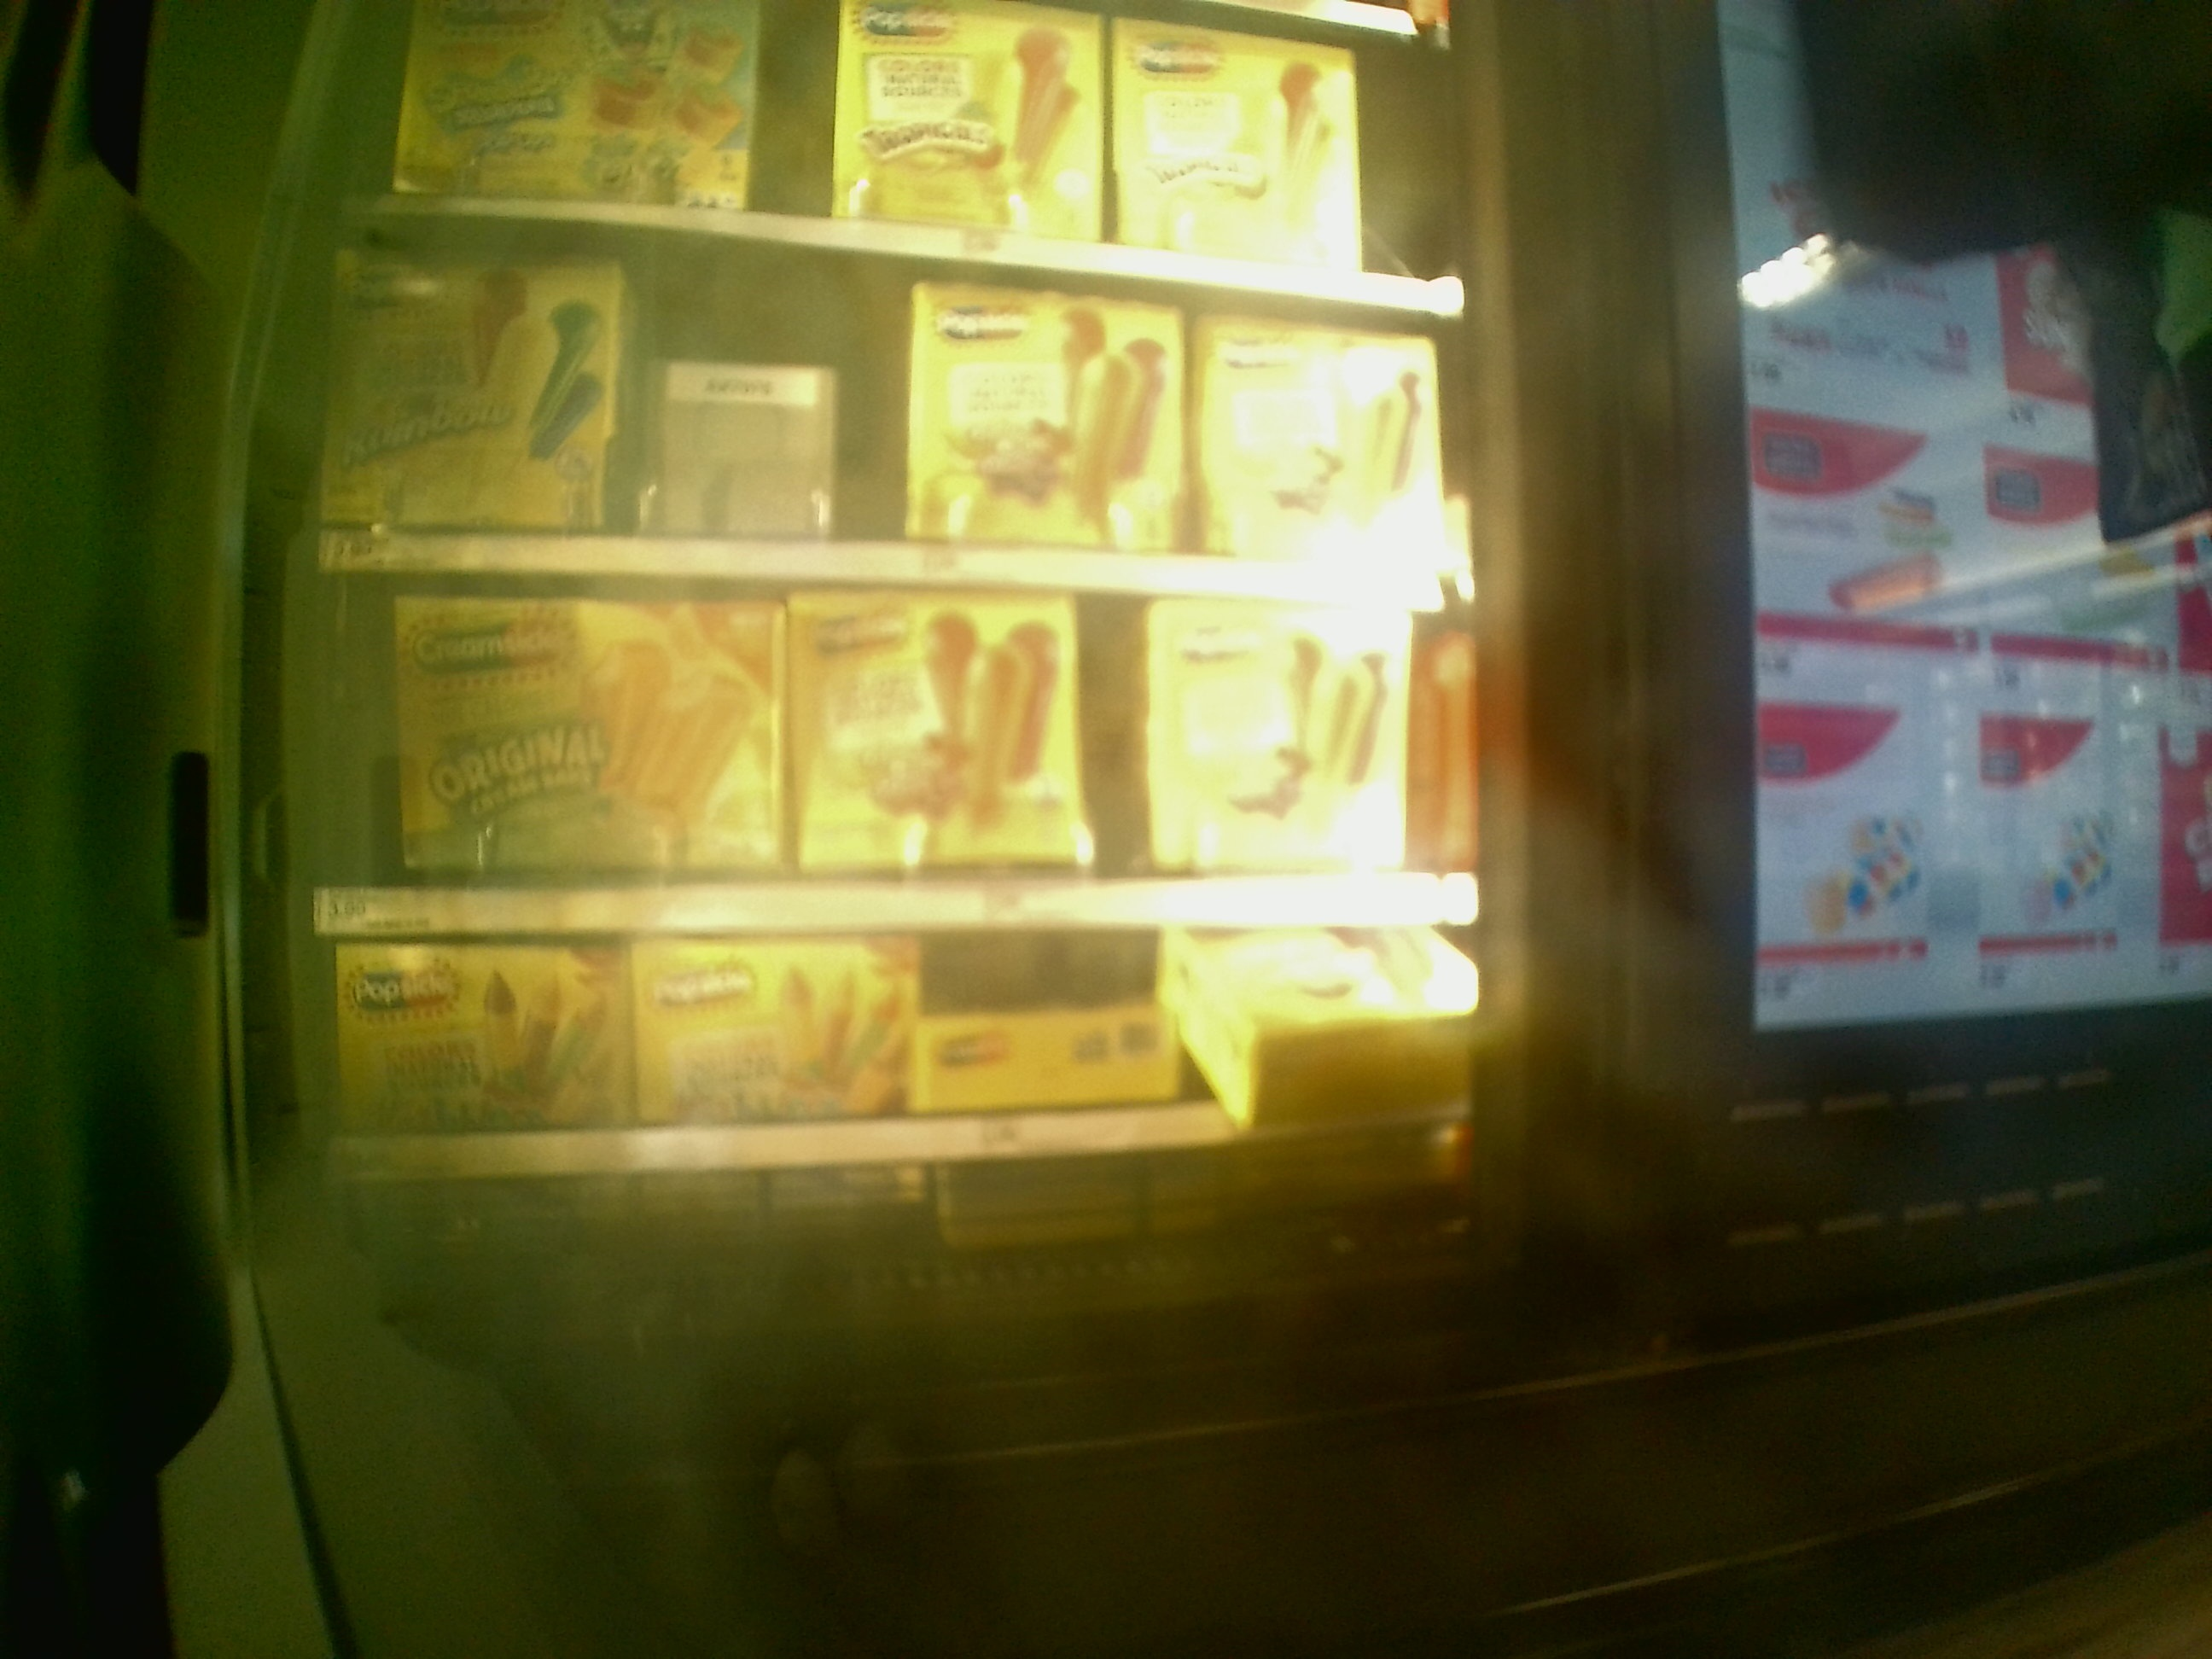frozen-food-shelf: (314, 938, 1491, 1190)
